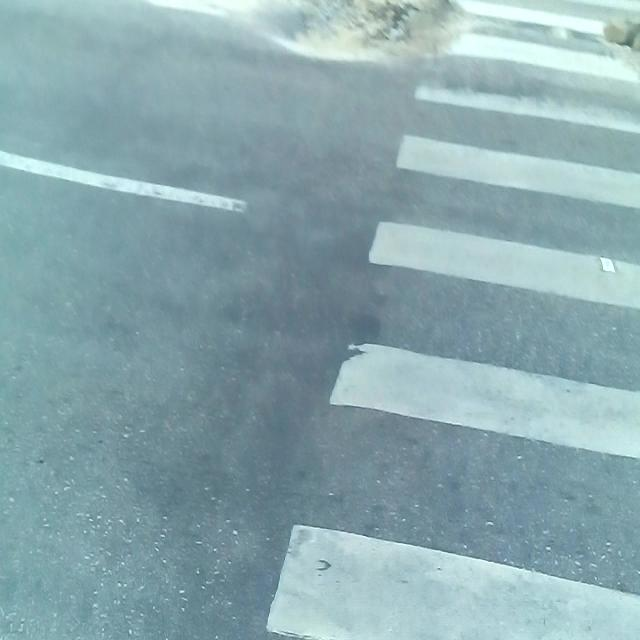crosswalk: (258, 0, 640, 640)
